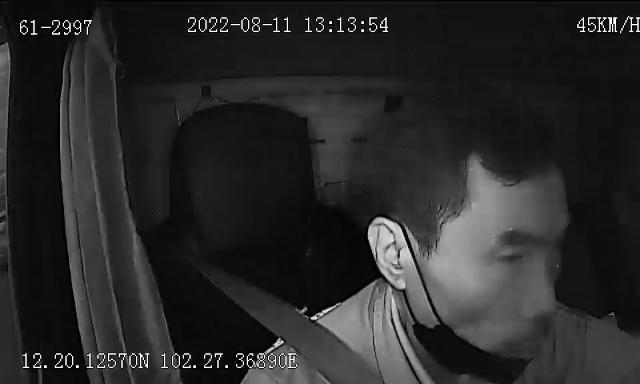Seatbelt: (202, 268, 386, 384)
